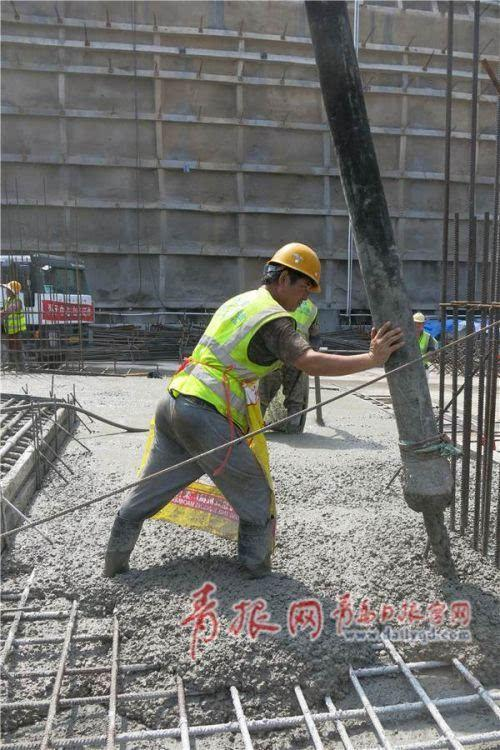helmet: (256, 231, 330, 308)
